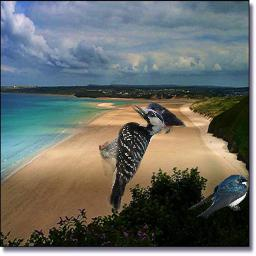Swallow: (188, 174, 249, 218), (144, 102, 186, 134)
Woodpecker: (99, 105, 165, 212)
